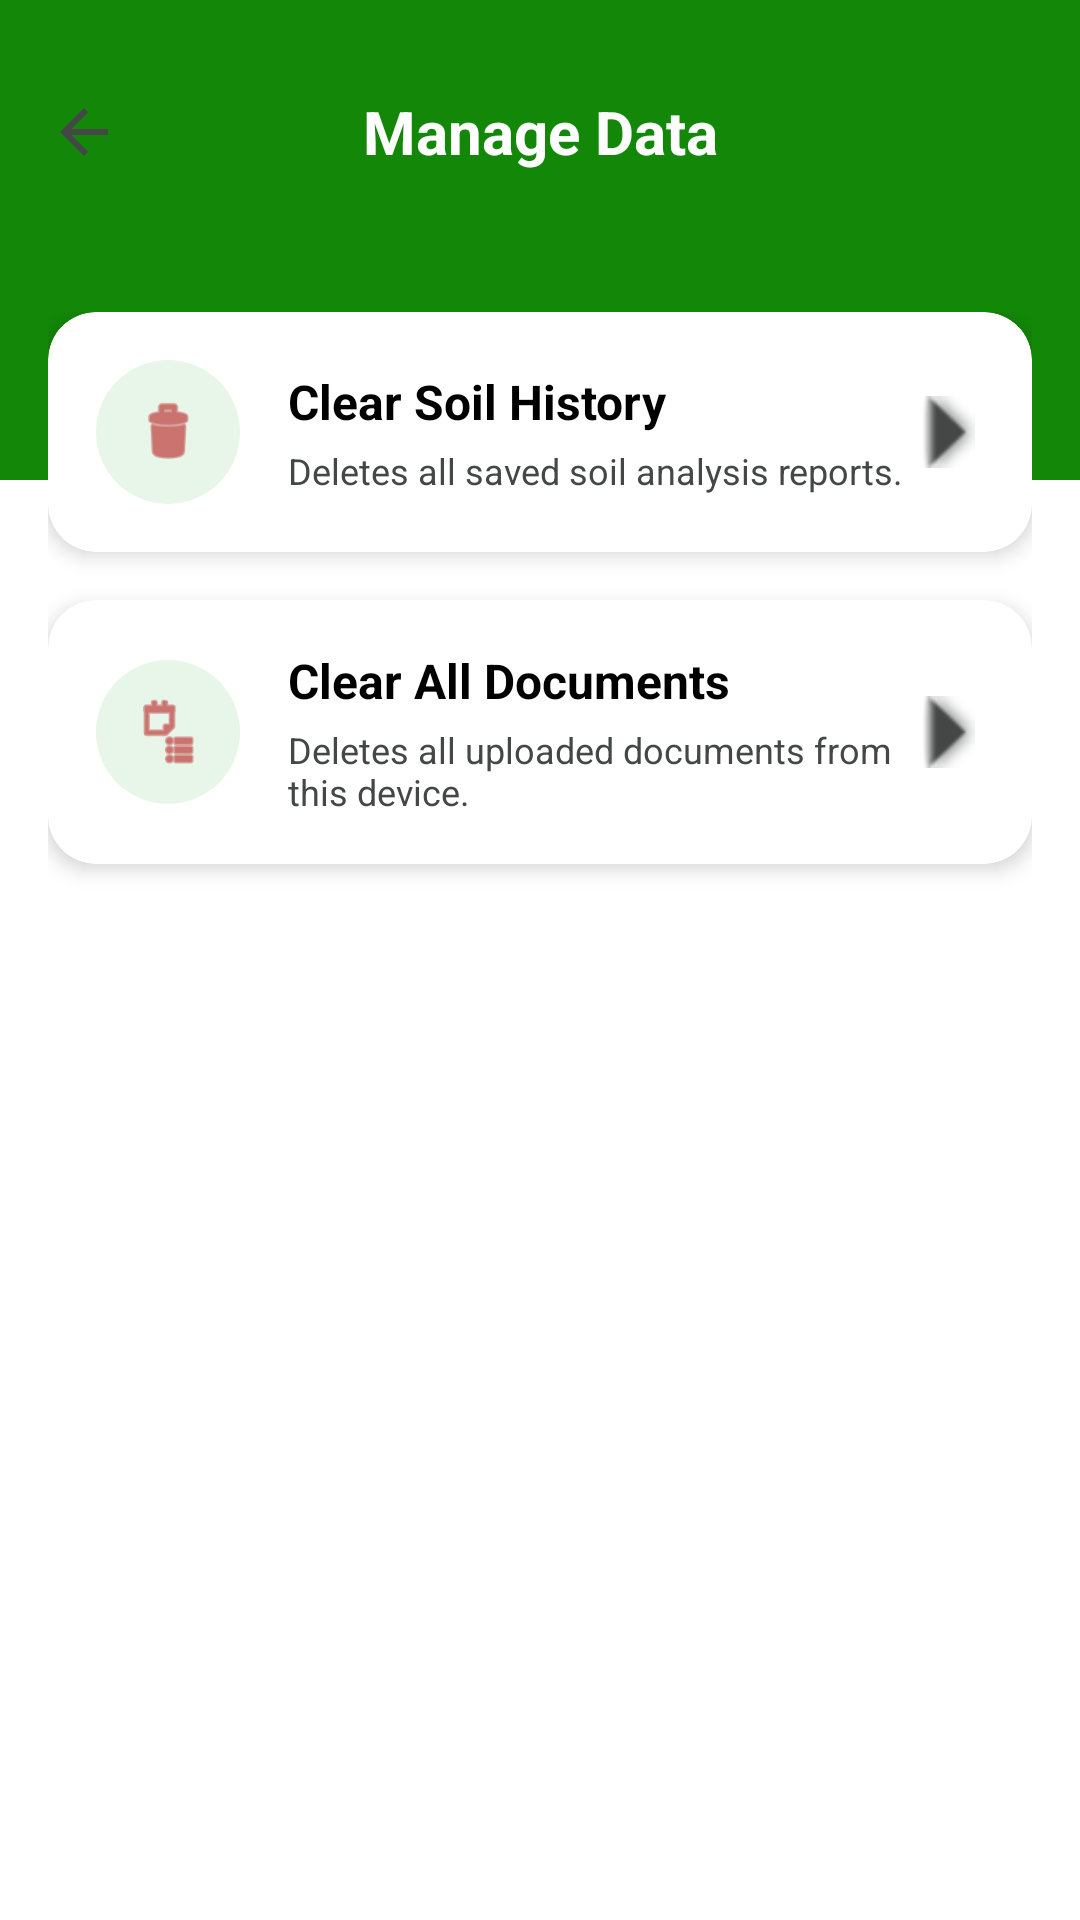

Locate icon controls on the screen. Image size 1080 x 1920, boxes as (x1, y1, x2, y2).
agenda: (143, 700, 194, 764)
